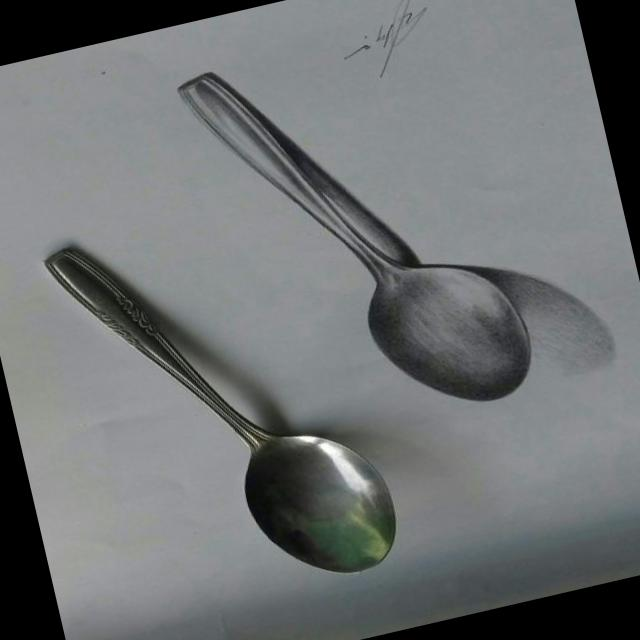spoon: (48, 180, 409, 640)
